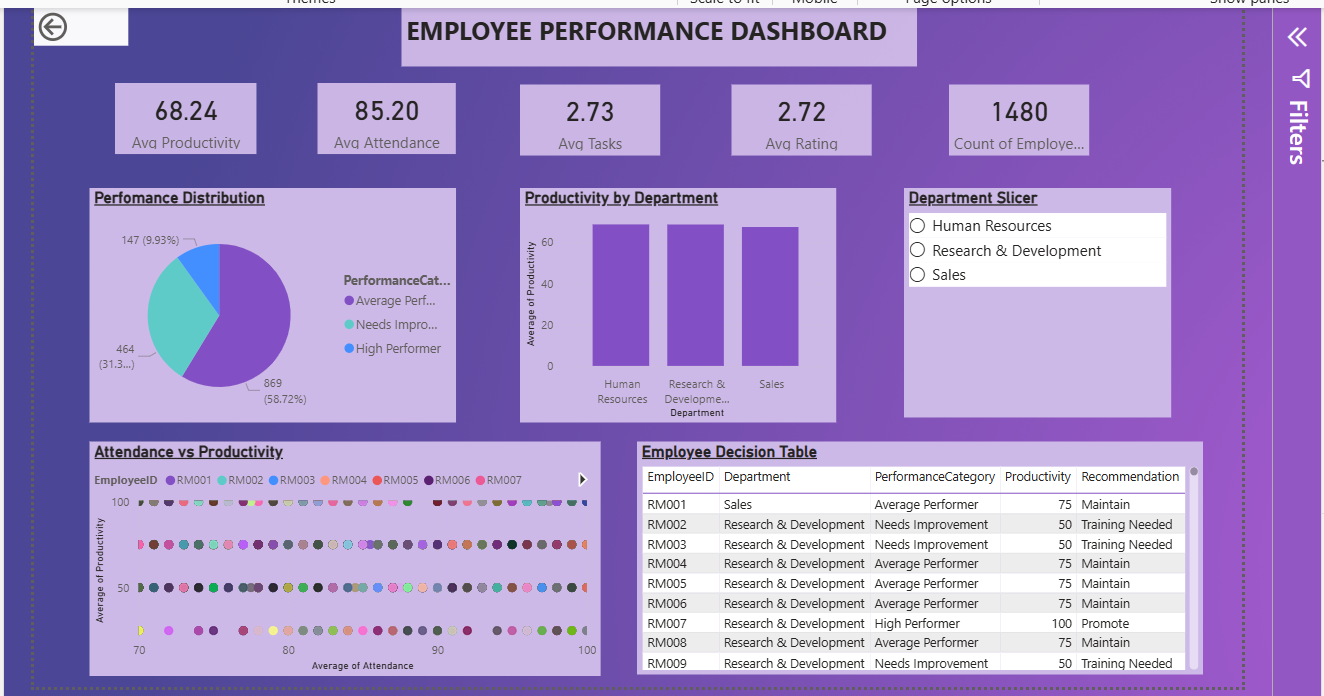

This screenshot's page, from the dashboard's own definition file:
{"tool":"powerbi","page":{"name":"Page 1","canvas":[1280,720],"ordinal":0},"visuals":[{"type":"card","fields":{"Values":["Avg(employee_cleaned.Productivity)"]},"box":[86.7,80,150,75],"z":0},{"type":"columnChart","title":"Productivity by Department","fields":{"Category":["employee_cleaned.Department"],"Y":["Avg(employee_cleaned.Productivity)"]},"box":[515,191.7,335,248.3],"z":1000},{"type":"scatterChart","title":" Attendance vs Productivity","fields":{"X":["Avg(employee_cleaned.Attendance)"],"Y":["Avg(employee_cleaned.Productivity)"],"Series":["employee_cleaned.EmployeeID"]},"box":[58.3,460,542,248.3],"z":2000},{"type":"pieChart","title":"Perfomance Distribution","fields":{"Category":["employee_cleaned.PerformanceCategory"],"Y":["CountNonNull(employee_cleaned.EmployeeID)"]},"box":[58.3,191.7,388.3,248.3],"z":3000},{"type":"tableEx","title":"Employee Decision Table","fields":{"Values":["employee_cleaned.EmployeeID","employee_cleaned.Department","employee_cleaned.PerformanceCategory","employee_cleaned.Productivity","employee_cleaned.Recommendation"]},"box":[640,460,600,246.7],"z":4000},{"type":"actionButton","box":[0,0,100,40],"z":5000},{"type":"listSlicer","title":"Department Slicer","fields":{"Values":["employee_cleaned.Department"]},"box":[923.3,191.7,283.3,243.3],"z":6000},{"type":"card","fields":{"Values":["CountNonNull(employee_cleaned.EmployeeID)"]},"box":[970,81.7,148.3,75],"z":7000},{"type":"card","fields":{"Values":["Avg(employee_cleaned.Attendance)"]},"box":[300,80,146.7,75],"z":7001},{"type":"card","fields":{"Values":["Avg(employee_cleaned.TasksCompleted)"]},"box":[515,81.7,148.3,75],"z":7002},{"type":"card","fields":{"Values":["Avg(employee_cleaned.SupervisorRating)"]},"box":[740,81.7,148.3,75],"z":7003},{"type":"textbox","box":[390,0,546.7,61.7],"z":7004}]}

Visuals, with their boxes in screenshot pixels (x1, y1, x2, y2):
card - Avg(employee_cleaned.Productivity): bbox(28, 76, 171, 148)
"Productivity by Department" columnChart: bbox(436, 183, 756, 420)
" Attendance vs Productivity" scatterChart: bbox(0, 439, 517, 676)
"Perfomance Distribution" pieChart: bbox(0, 183, 371, 420)
"Employee Decision Table" tableEx: bbox(555, 439, 1128, 674)
actionButton: bbox(0, 0, 40, 38)
"Department Slicer" listSlicer: bbox(826, 183, 1096, 415)
card - CountNonNull(employee_cleaned.EmployeeID): bbox(870, 78, 1012, 149)
card - Avg(employee_cleaned.Attendance): bbox(231, 76, 371, 148)
card - Avg(employee_cleaned.TasksCompleted): bbox(436, 78, 578, 149)
card - Avg(employee_cleaned.SupervisorRating): bbox(651, 78, 792, 149)
textbox: bbox(317, 0, 838, 59)
